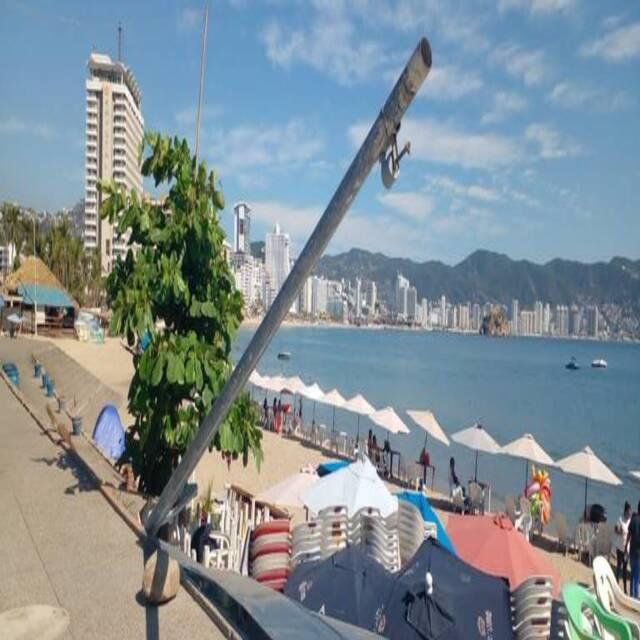Inclined Pole: (134, 29, 441, 537)
